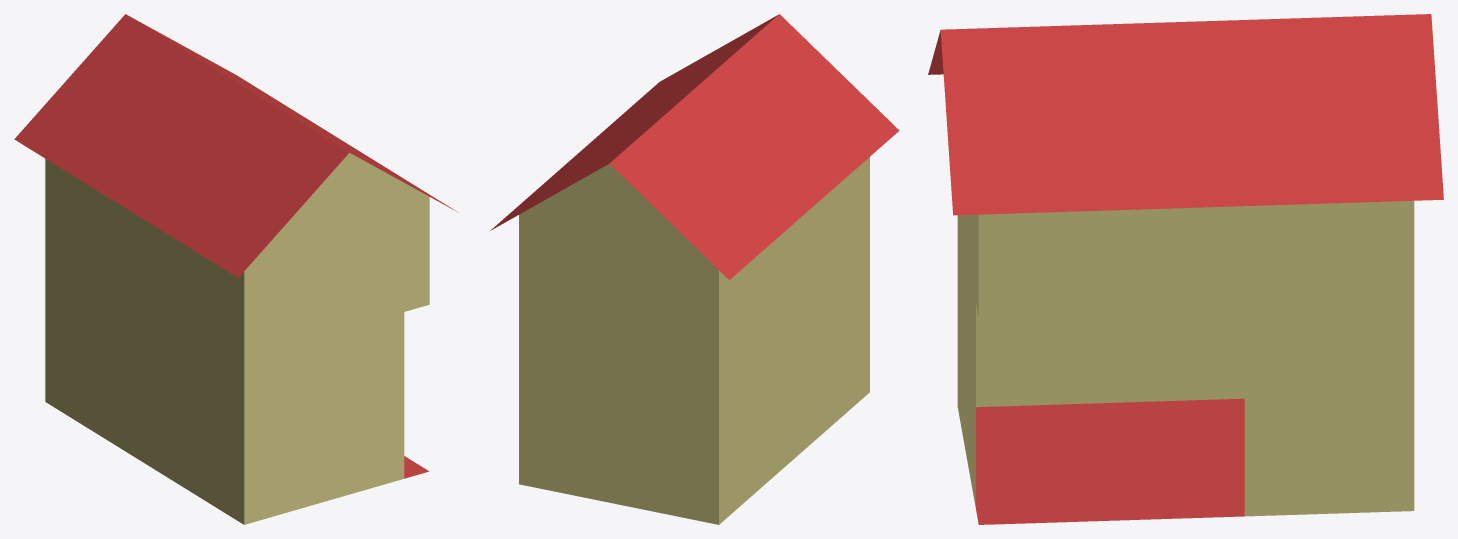
3 renders of one model, left to right at view 1: azimuth 30°, elevation 25°; view 2: azimuth 150°, elevation 25°; view 3: azimuth 270°, elevation 25°, orthographic. The views are drawn at different scales.
Size of the model in its own units: 9.99 by 13.94 by 13.04.
